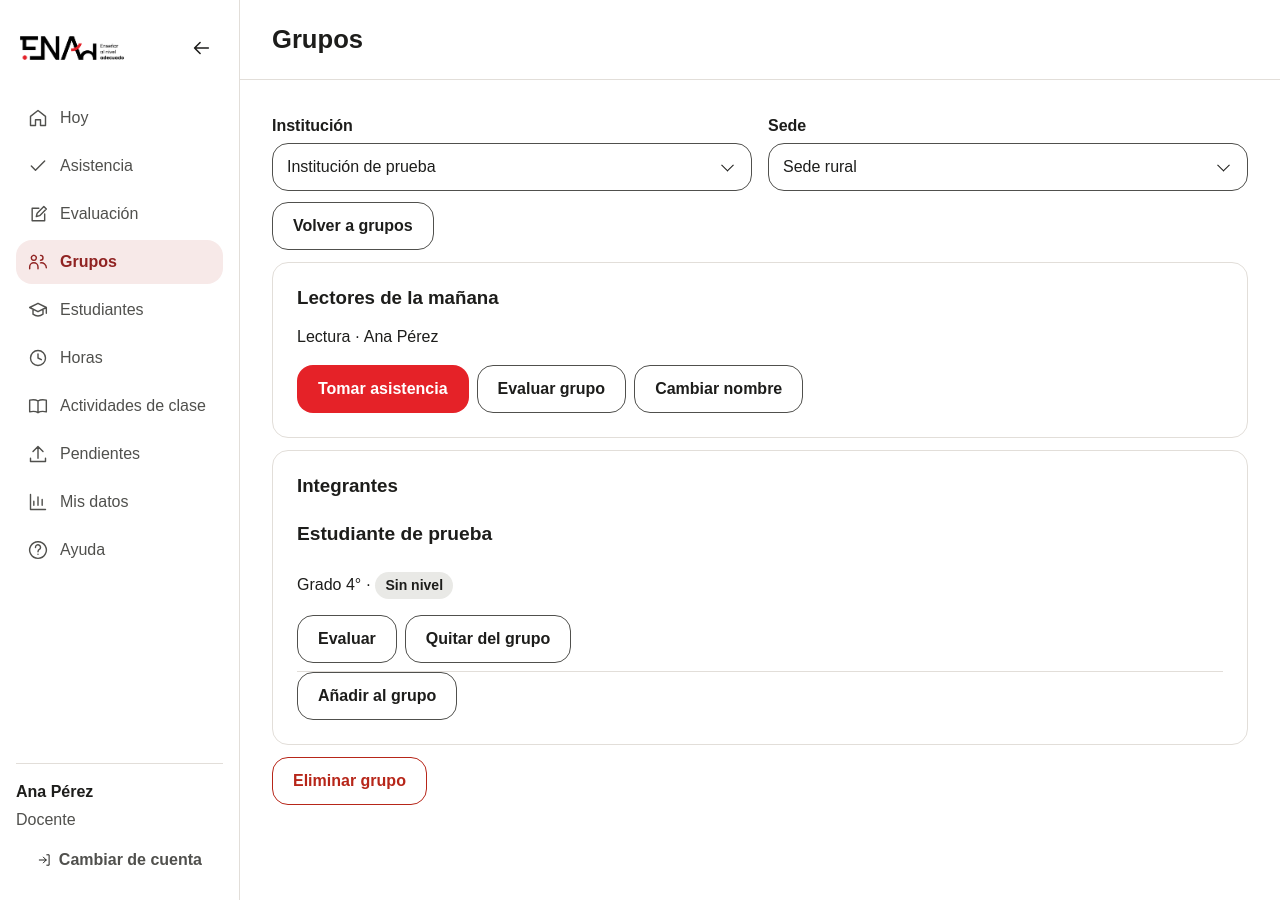
abre el grupo de la segunda institución desde Hoy, conserva la sede y guarda una lista completa
expect the dropdown labelled "Institución" shows "Institución de prueba": met, box [272,143,752,191]
expect the dropdown labelled "Sede" shows "Sede rural": met, box [768,143,1248,191]
Click the link "Tomar asistencia".
click(383, 389)  # box [297,365,468,413]
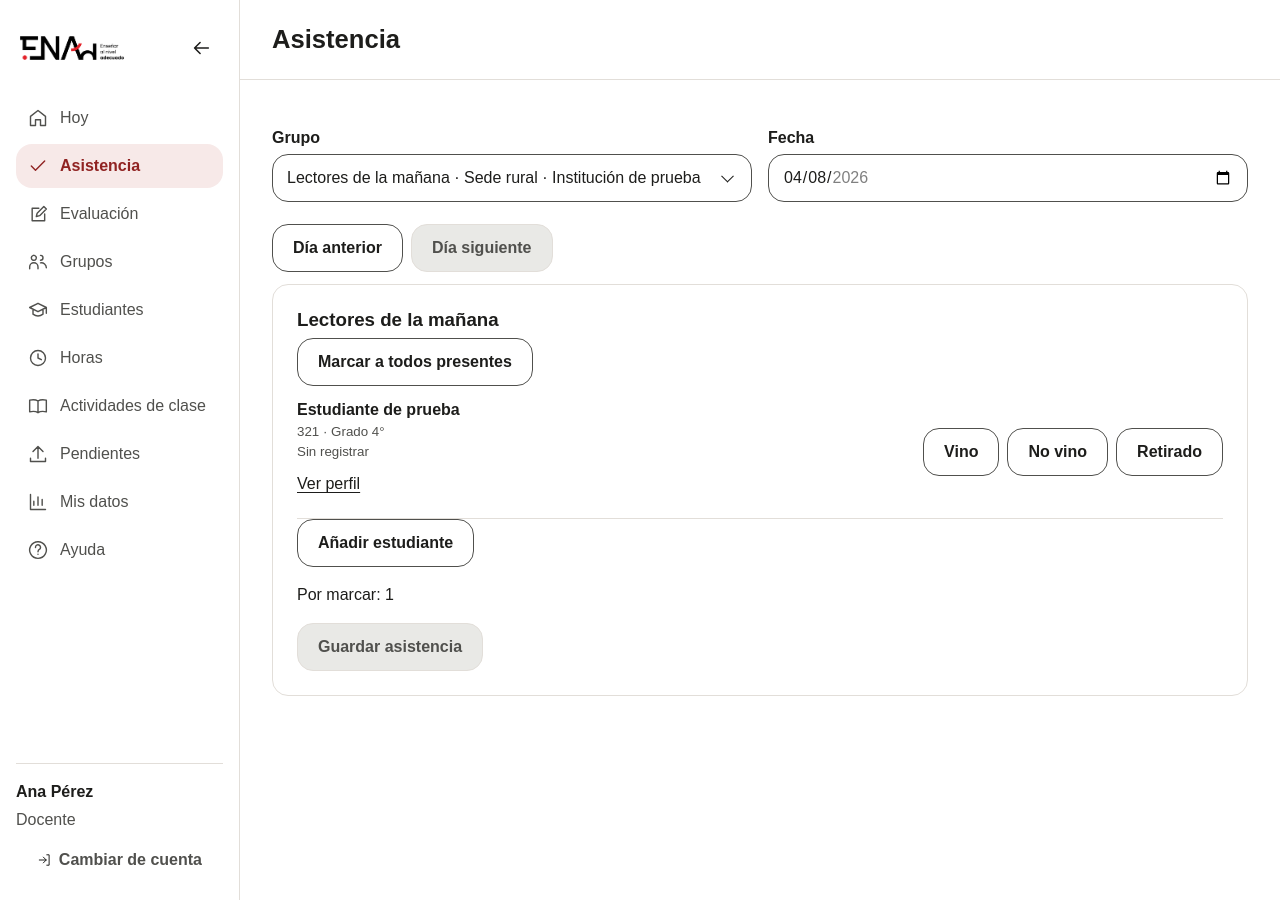
expect the dropdown labelled "Grupo" shows "Lectores de la mañana · Sede rural · Institución de prueba": met, box [272,154,752,202]
Click the button "Marcar a todos presentes".
click(415, 362)  # box [297,338,533,386]
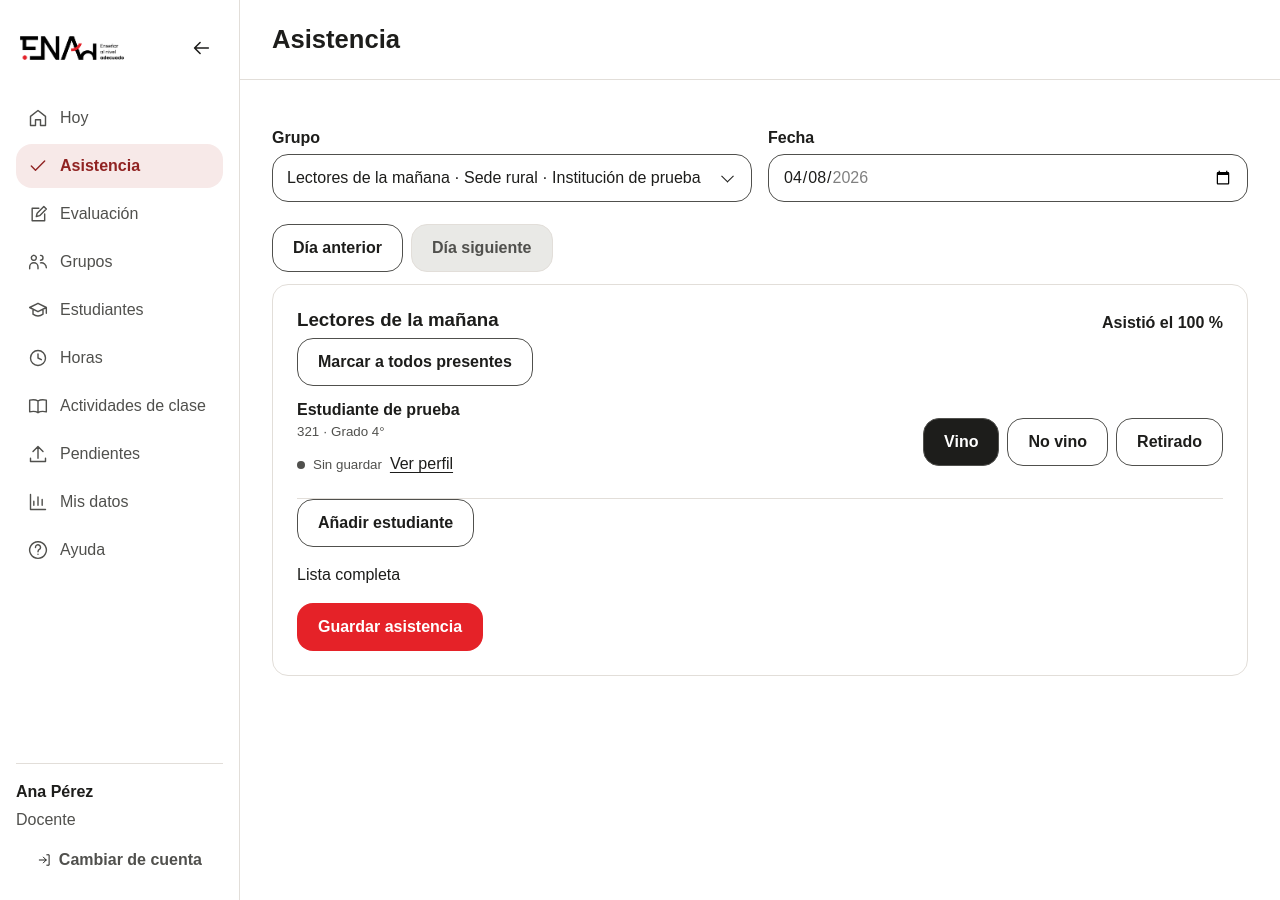
Click the button "Guardar asistencia".
click(390, 627)  # box [297,603,483,651]
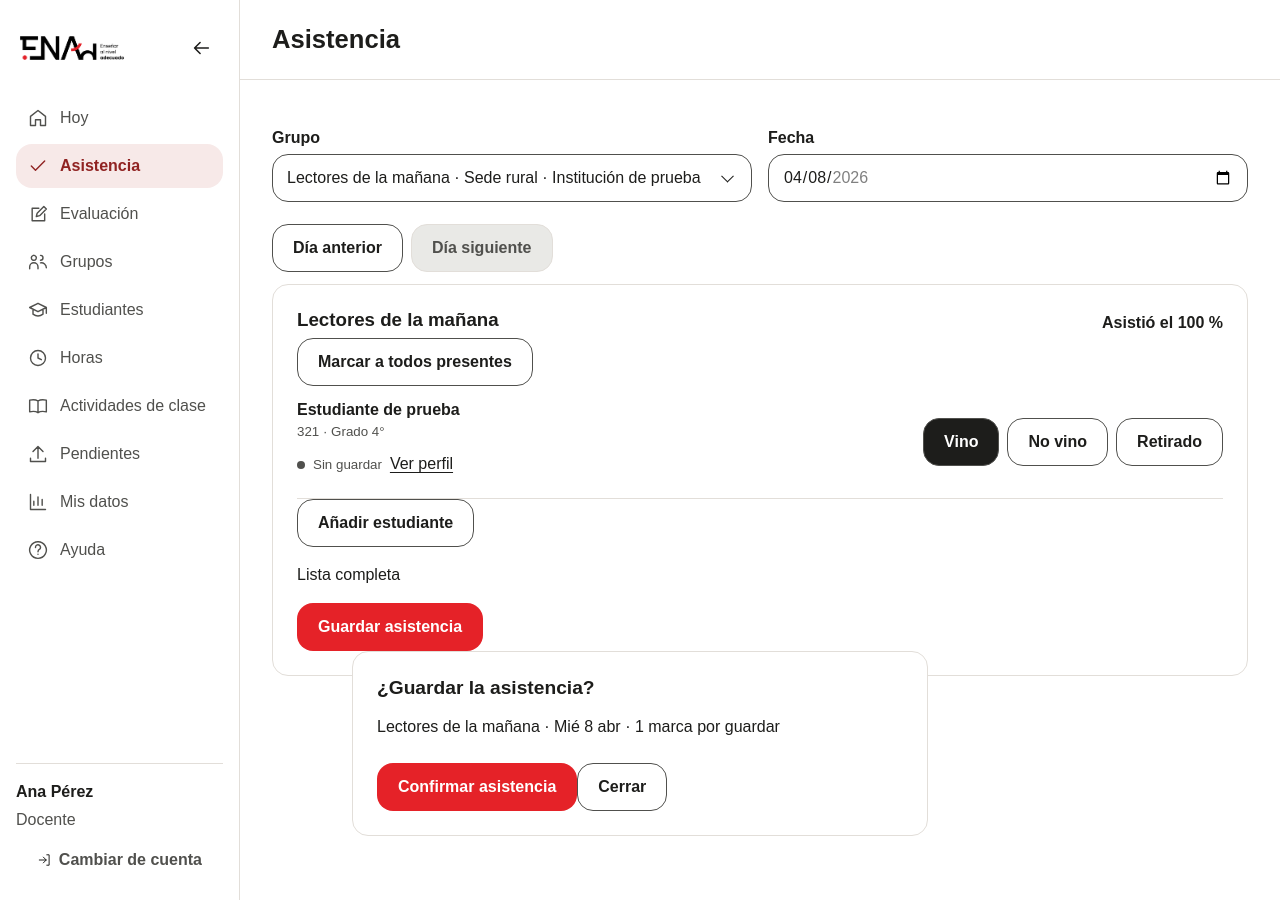
Click the button "Confirmar asistencia".
click(477, 787)  # box [377,763,577,811]
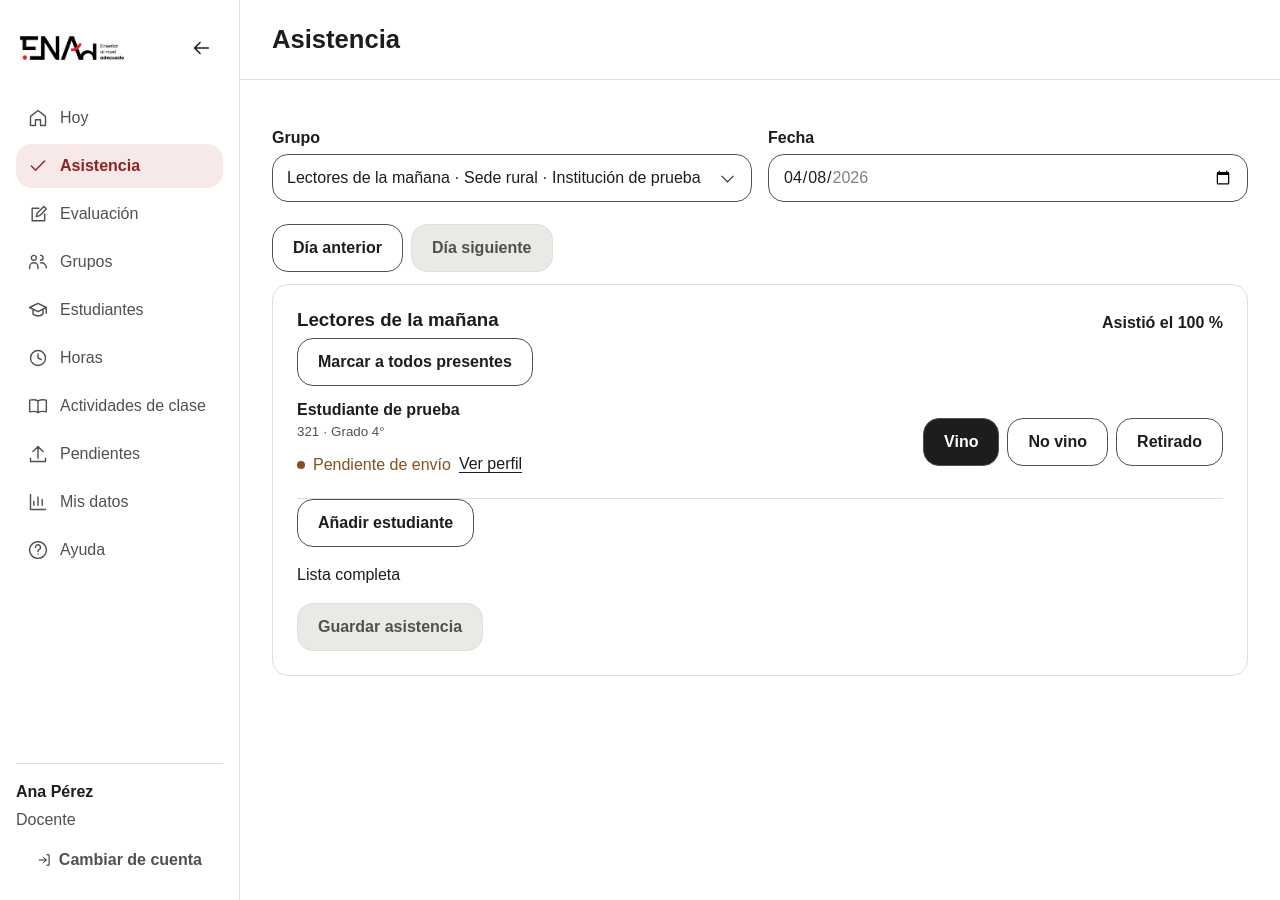
expect the text "Pendiente de envío" is shown: met, box [297,453,451,477]
